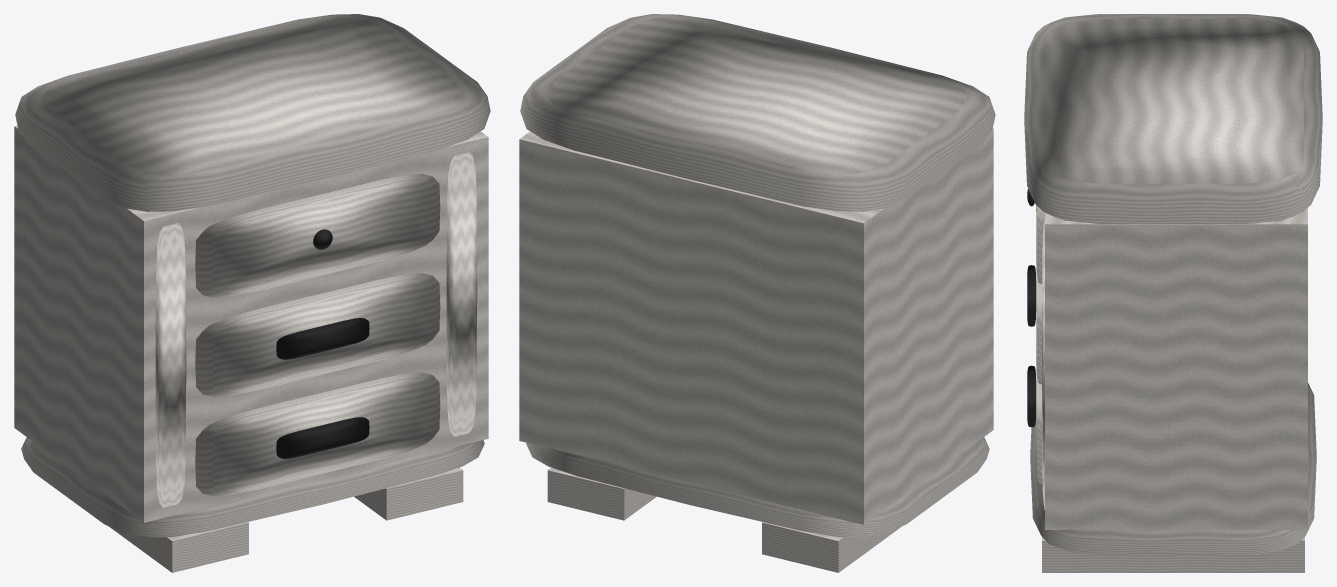
The picture shows the model from 3 angles, left to right: view 1: azimuth 30°, elevation 25°; view 2: azimuth 150°, elevation 25°; view 3: azimuth 270°, elevation 25°; orthographic projection.
Parts seen in each view (by area): view 1: 4 cabinet_body, 7 top_panel, 8 top_drawer, 10 bottom_drawer, 9 middle_drawer, 3 base_molding, 5 left_pilaster, 6 right_pilaster, 1 left_foot, 2 right_foot, 12 middle_pull, 13 bottom_pull; view 2: 4 cabinet_body, 7 top_panel, 3 base_molding, 1 left_foot, 2 right_foot; view 3: 4 cabinet_body, 7 top_panel, 3 base_molding, 2 right_foot, 6 right_pilaster, 10 bottom_drawer, 9 middle_drawer, 12 middle_pull, 8 top_drawer, 13 bottom_pull.
Part boxes in pixels (<box>): 4 cabinet_body: <box>14,125,488,522</box>; 7 top_panel: <box>15,14,490,211</box>; 8 top_drawer: <box>195,174,440,297</box>; 10 bottom_drawer: <box>195,372,440,495</box>; 9 middle_drawer: <box>195,273,440,396</box>; 3 base_molding: <box>21,437,484,537</box>; 5 left_pilaster: <box>155,223,186,507</box>; 6 right_pilaster: <box>446,152,477,436</box>; 1 left_foot: <box>110,522,248,572</box>; 2 right_foot: <box>354,467,463,520</box>; 12 middle_pull: <box>276,318,369,359</box>; 13 bottom_pull: <box>276,417,369,458</box>; 4 cabinet_body: <box>519,128,993,524</box>; 7 top_panel: <box>520,14,995,211</box>; 3 base_molding: <box>526,437,989,537</box>; 1 left_foot: <box>762,522,901,572</box>; 2 right_foot: <box>547,467,656,520</box>; 4 cabinet_body: <box>1045,208,1307,529</box>; 7 top_panel: <box>1024,14,1322,223</box>; 3 base_molding: <box>1030,383,1316,554</box>; 2 right_foot: <box>1042,537,1304,572</box>; 6 right_pilaster: <box>1042,218,1044,509</box>; 10 bottom_drawer: <box>1036,364,1042,484</box>; 9 middle_drawer: <box>1036,263,1042,384</box>; 12 middle_pull: <box>1027,265,1035,326</box>; 8 top_drawer: <box>1036,205,1044,283</box>; 13 bottom_pull: <box>1027,365,1035,427</box>.
Size of the model in its own units: 0.6858 by 0.6794 by 0.4572.
2 materials, 1 textured.
